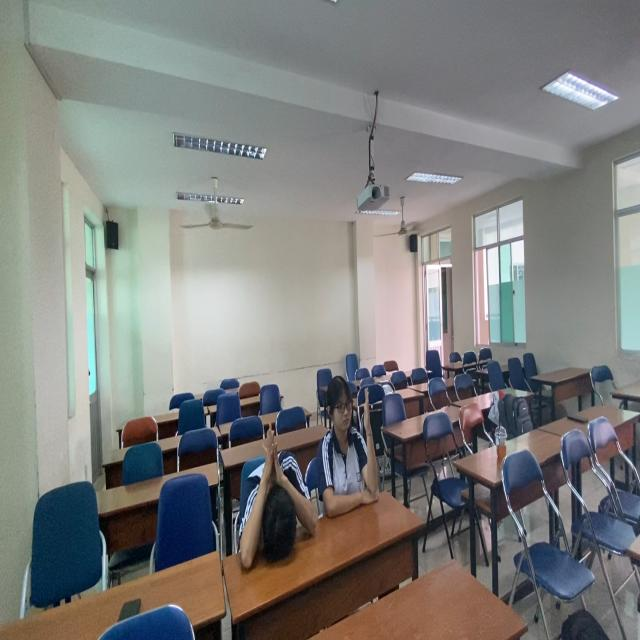raise_hand: (324, 374, 386, 516)
sleep: (238, 420, 321, 579)
